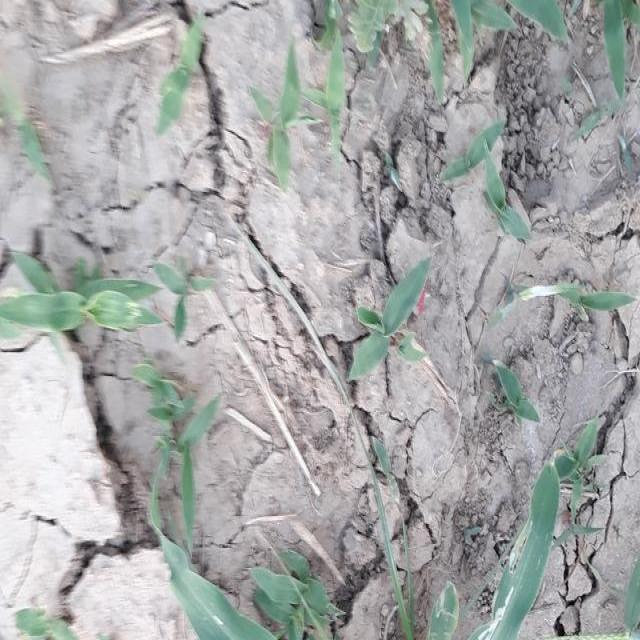weed: (149, 516, 601, 636), (0, 247, 163, 336), (346, 252, 433, 386)
